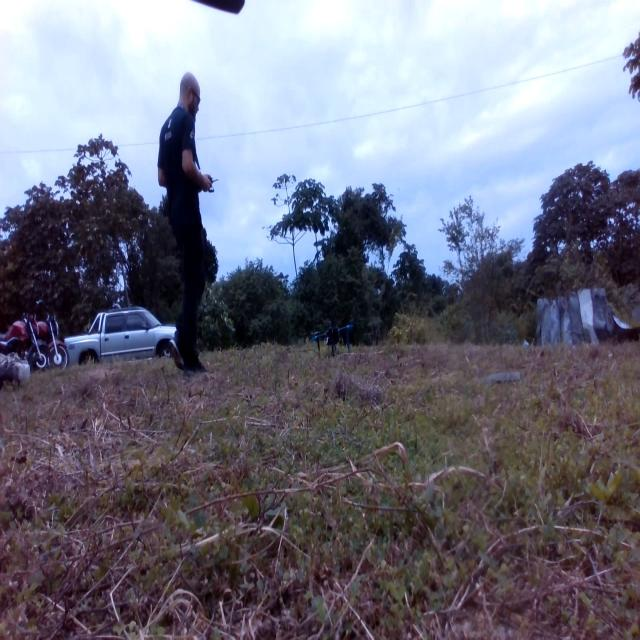-uav-: (302, 311, 363, 365)
